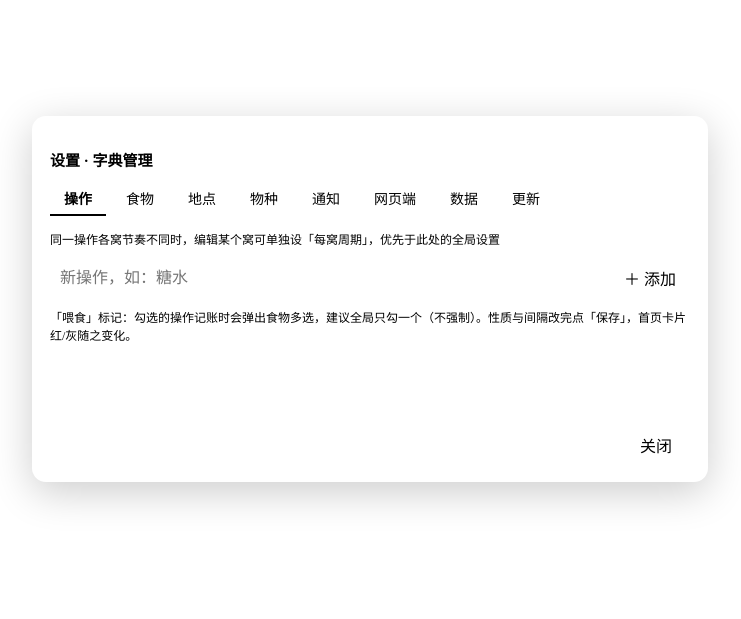
Test: 设置弹窗通知 tab Pushover 应用内配置（webui-checkin 票 11） › 明文入库并随备份扩散的风险提示固定展示（验收 4）
The width and height of the screenshot is (741, 619).
Click the button with class "tab-notify" at point(326, 199), box [298,182,354,216]
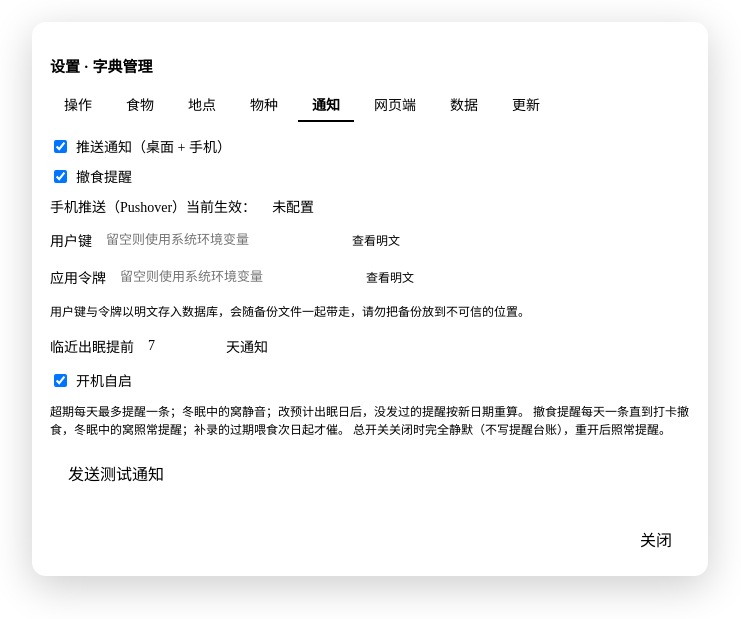
expect the text "用户键与令牌以明文存入数据库，会随备份文件一起带走，请勿把备份放到不可信的位置。" is shown: met, box [50,305,530,319]
